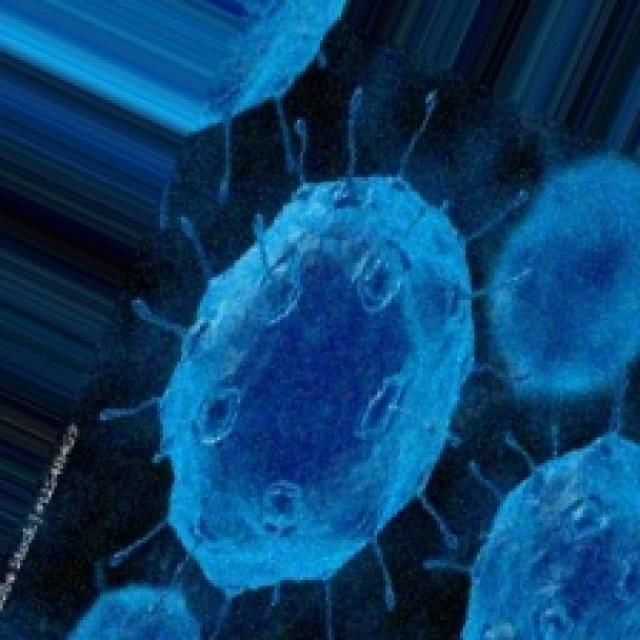Spherical_bacteria: (146, 168, 477, 603), (477, 146, 637, 406), (449, 429, 637, 637)
